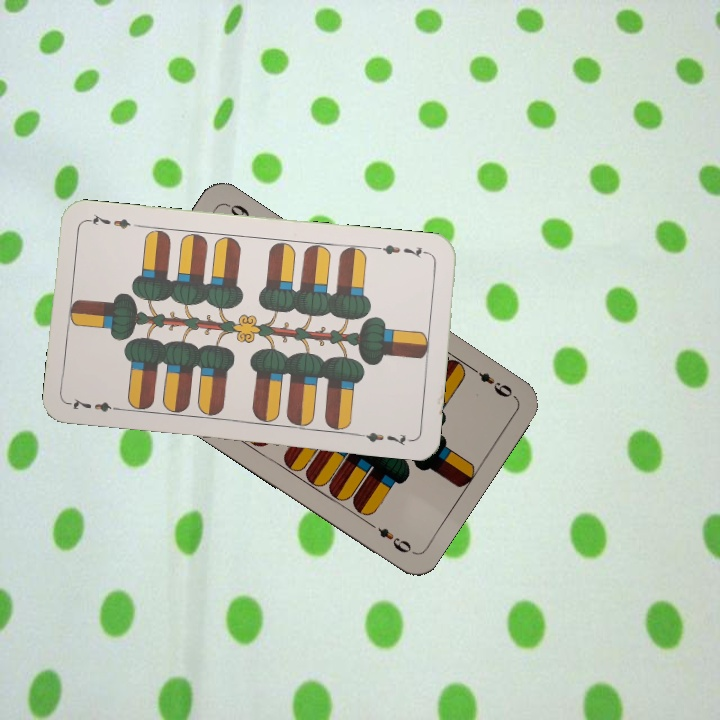E7: (66, 394, 126, 414), (373, 240, 432, 260)
E9: (465, 361, 515, 400)
